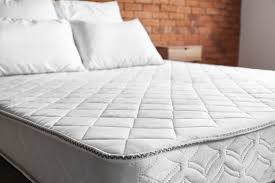bed-matress: (1, 59, 274, 183)
